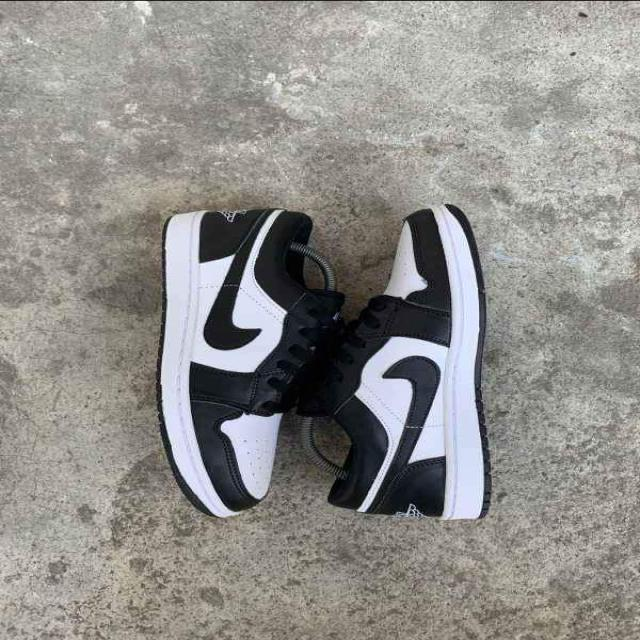nike fake jordan 1: (294, 205, 493, 523), (154, 209, 346, 526)
